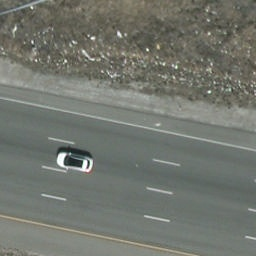car: (55, 149, 95, 176)
